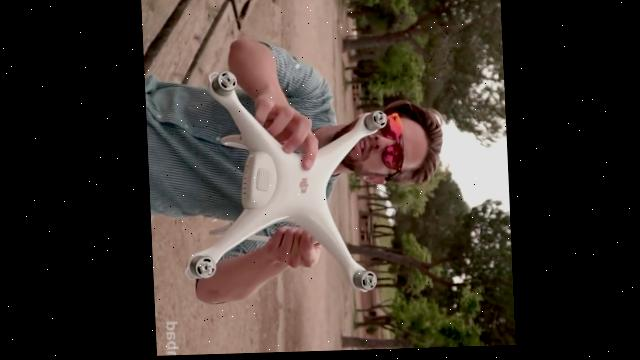drone: (173, 68, 393, 301)
